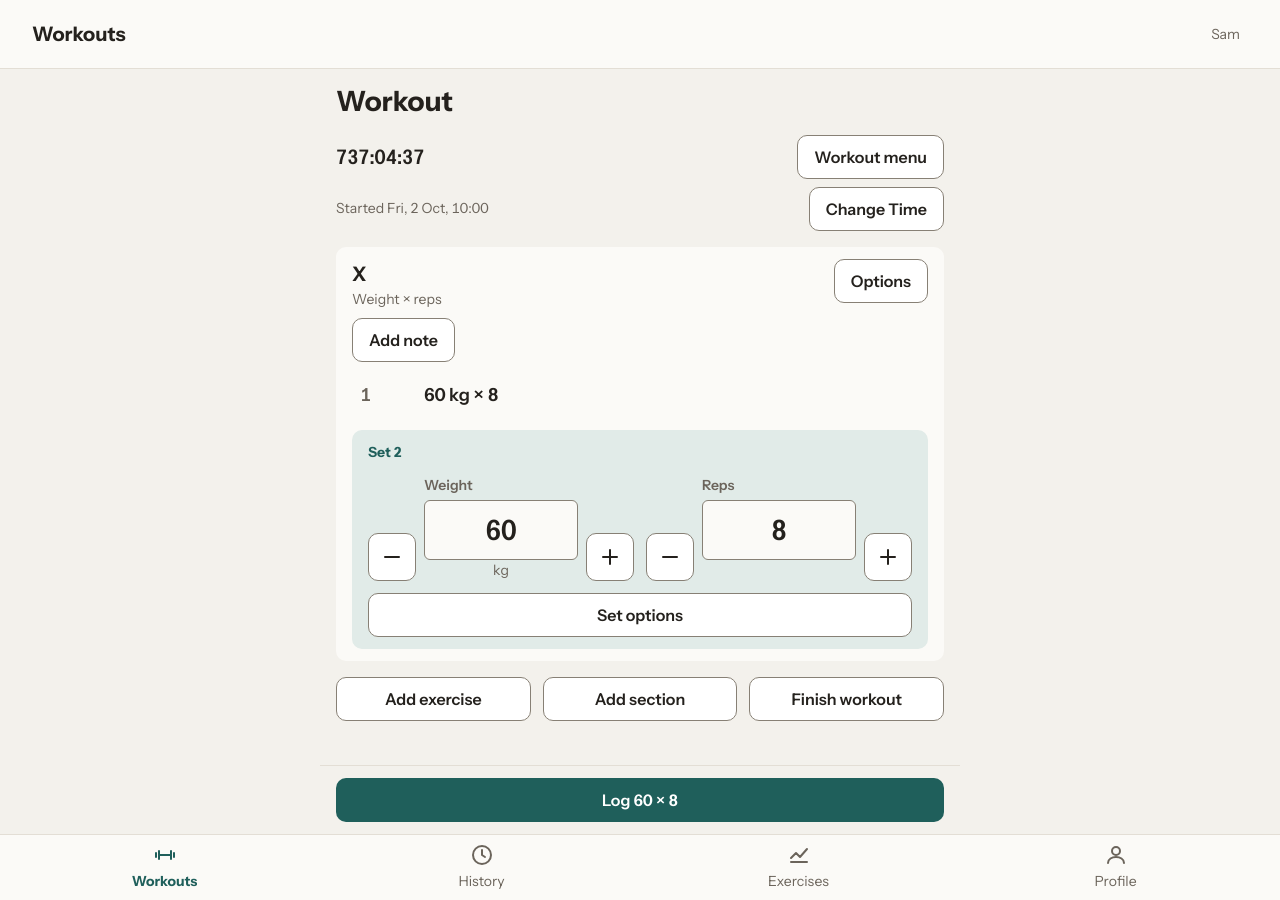
Test: AC29 — discard and the gone path › asks first, saying how many logged sets will be deleted
Check: the heading "Workout" is shown, box [336,84,453,118]
Click the button "Workout menu".
click(871, 157)  # box [797,135,944,179]
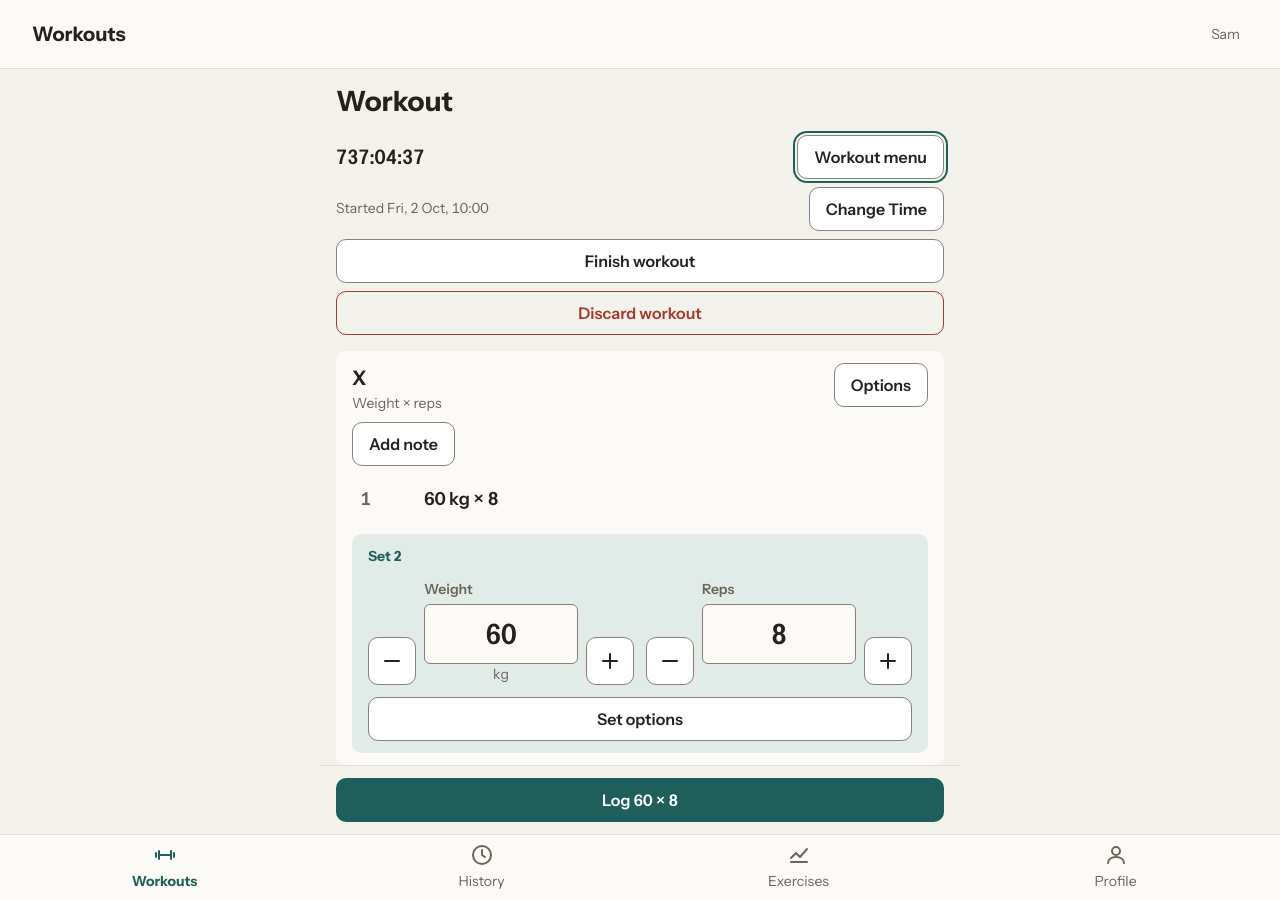
Click the button "Discard workout".
click(640, 313)  # box [336,291,944,335]
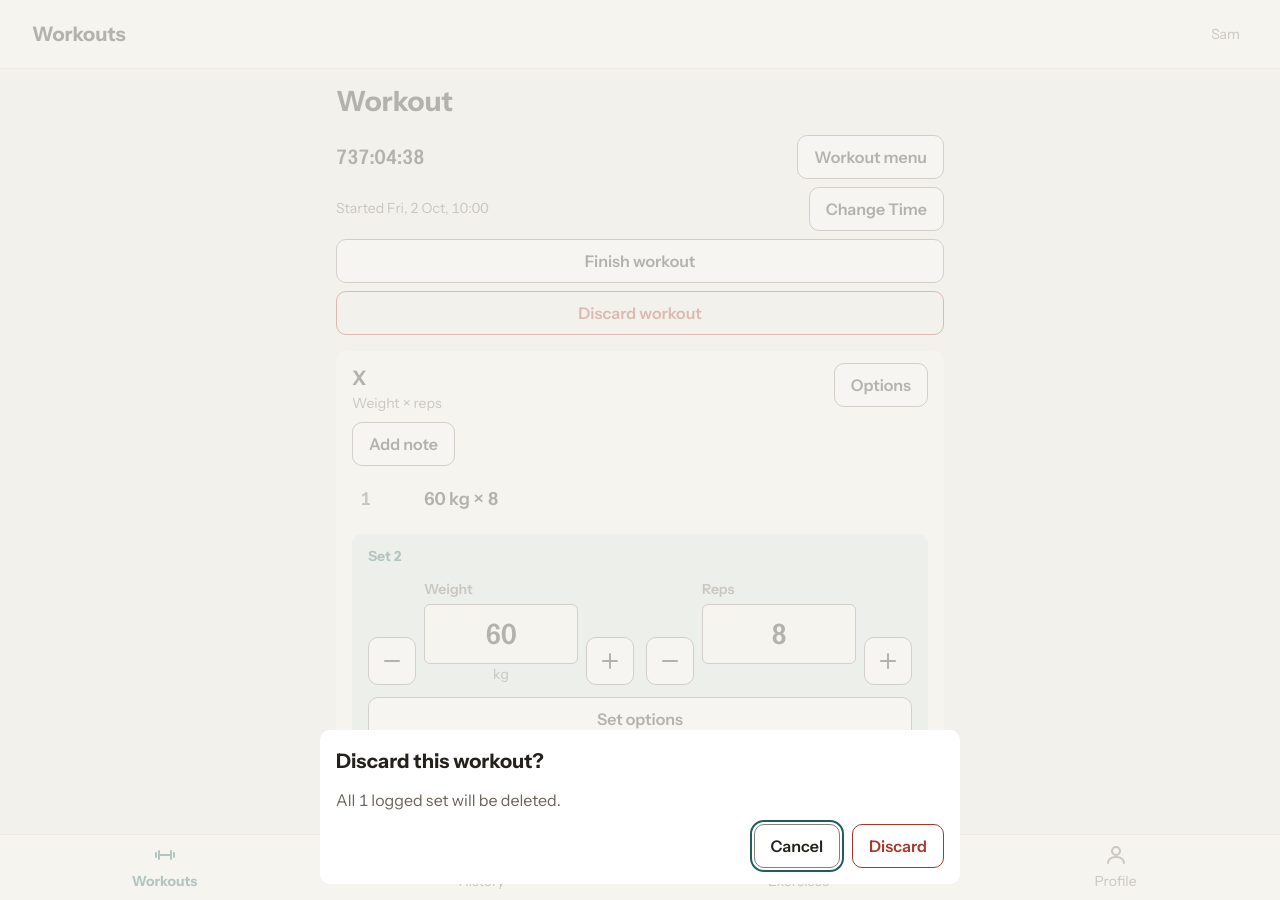
Check: the dialog "Discard this workout?" shows "All 1 logged set will be deleted.", box [336,790,561,810]
